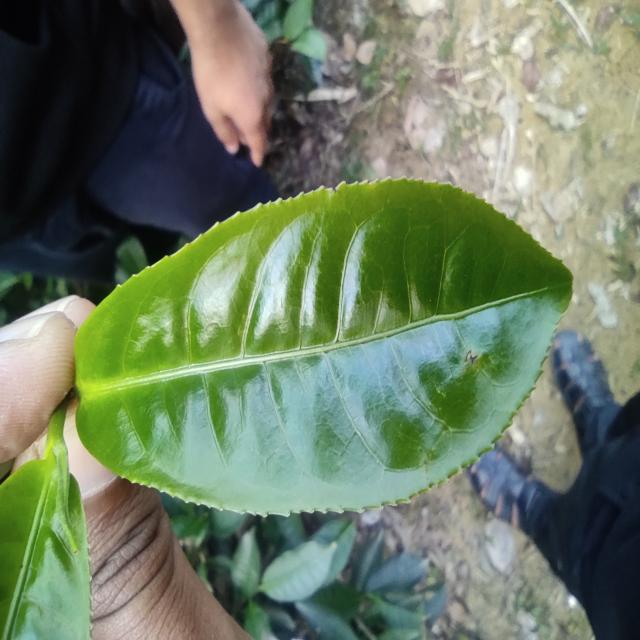Category C 4-7 days: (40, 149, 578, 552)
